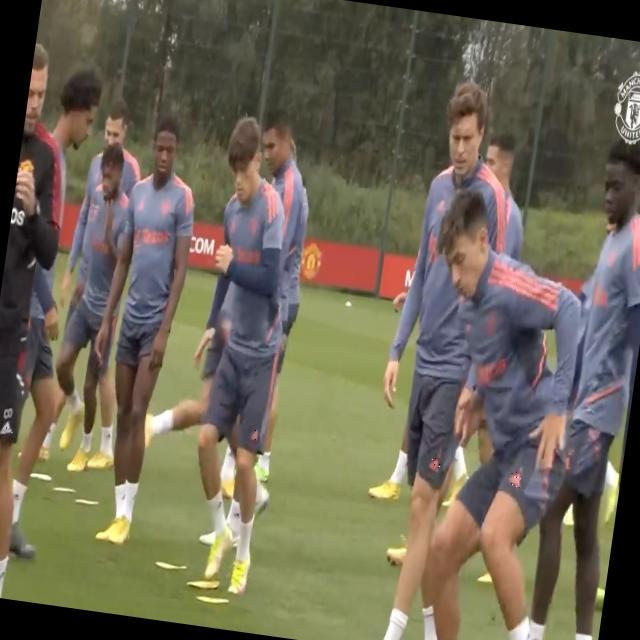Adidas: (509, 470, 523, 489), (0, 420, 15, 437), (429, 456, 441, 473), (250, 428, 262, 444)
